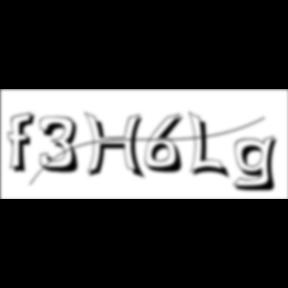3: (40, 116, 86, 176)
6: (146, 112, 190, 176)
H: (84, 112, 150, 182)
L: (188, 110, 232, 182)
f: (7, 111, 40, 175)
g: (233, 134, 285, 194)
